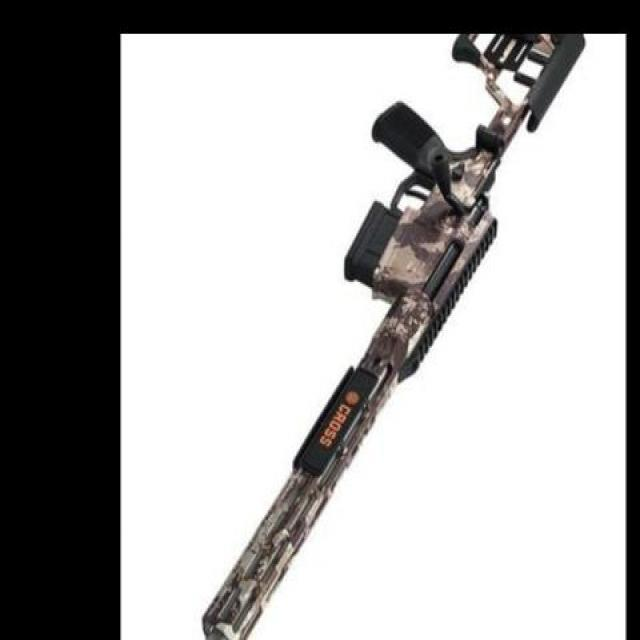weapon: (201, 32, 587, 640)
